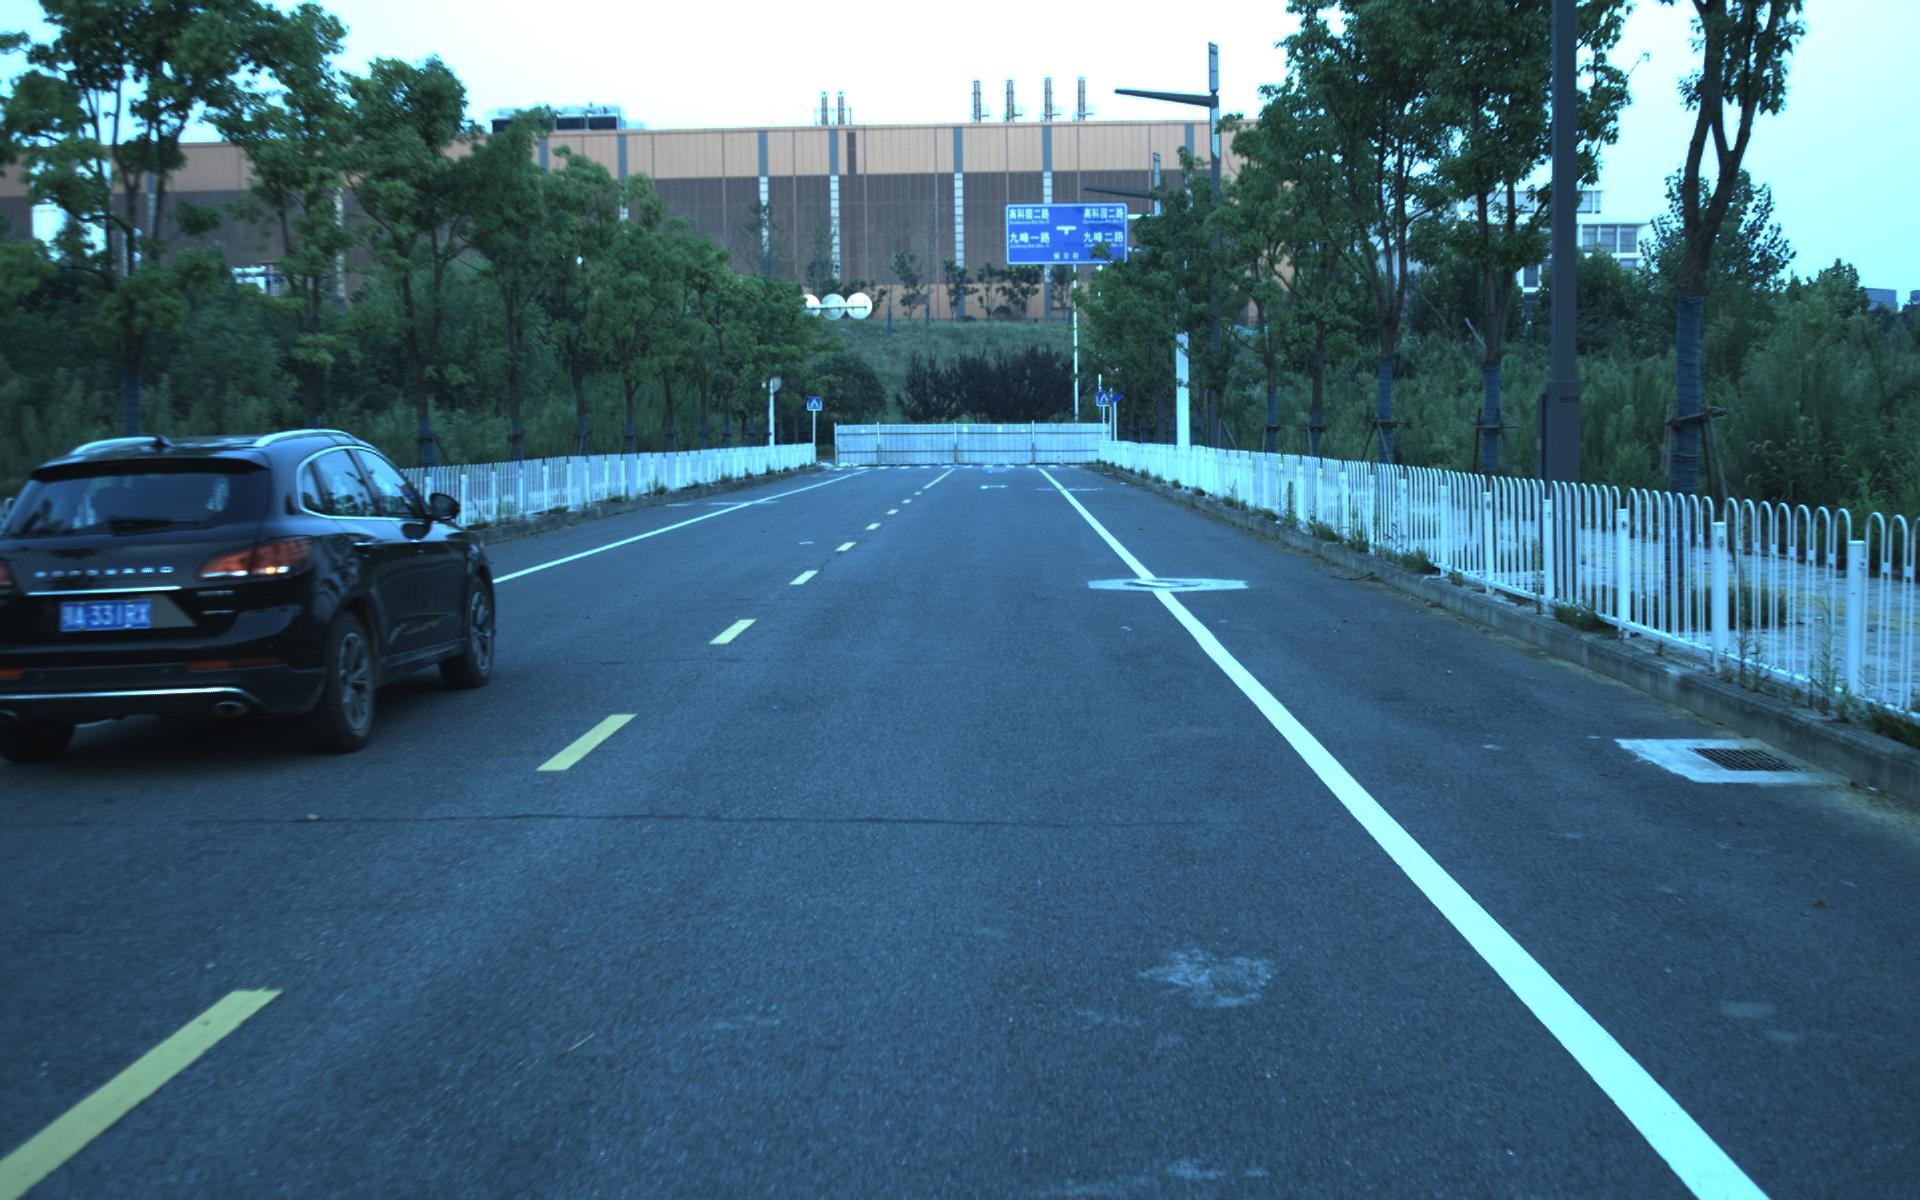Car: (4, 413, 505, 771)
